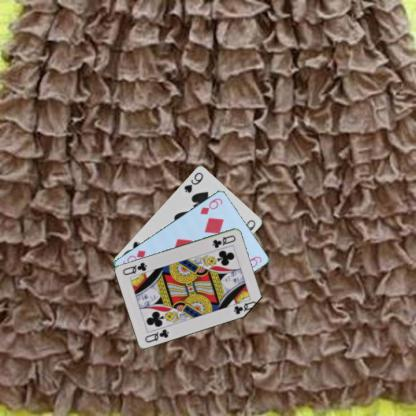6d: (198, 196, 224, 216)
9s: (182, 169, 204, 194)
Qc: (142, 326, 171, 344), (210, 232, 237, 249)
